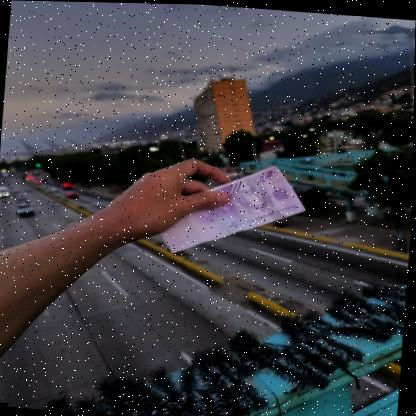one_hundred-back-vef: (157, 153, 311, 263)
